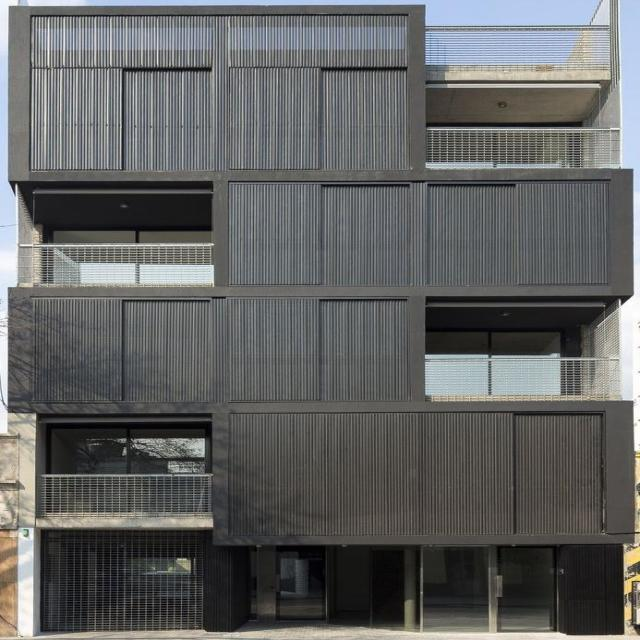door: (416, 547, 549, 629), (259, 546, 334, 618)
railing: (427, 27, 621, 73), (423, 361, 620, 401), (25, 249, 220, 287), (426, 132, 627, 168), (45, 471, 214, 513)
window: (44, 422, 203, 470), (47, 222, 212, 247), (425, 329, 567, 357)
